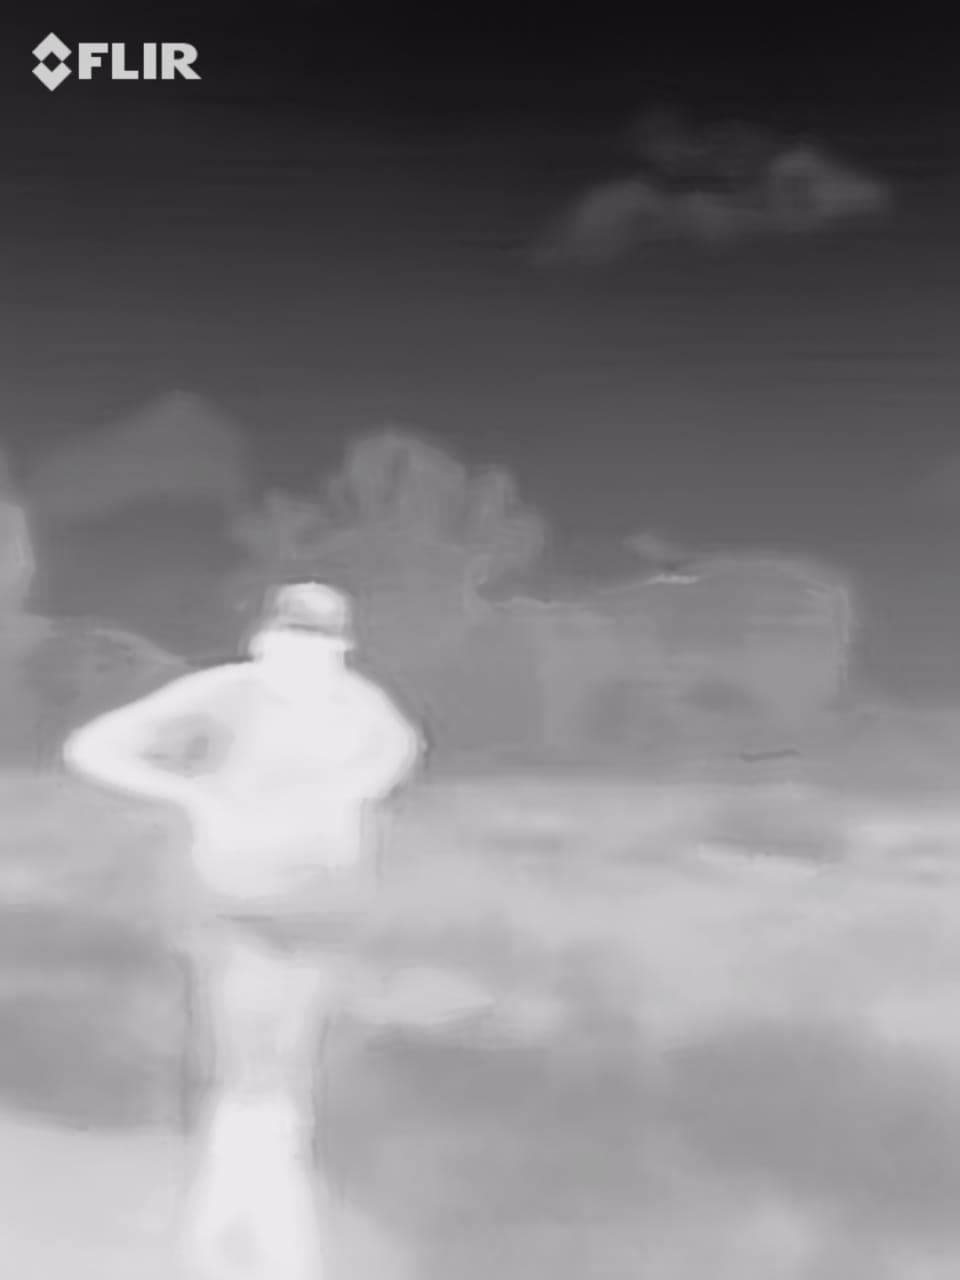head: (242, 579, 364, 718)
